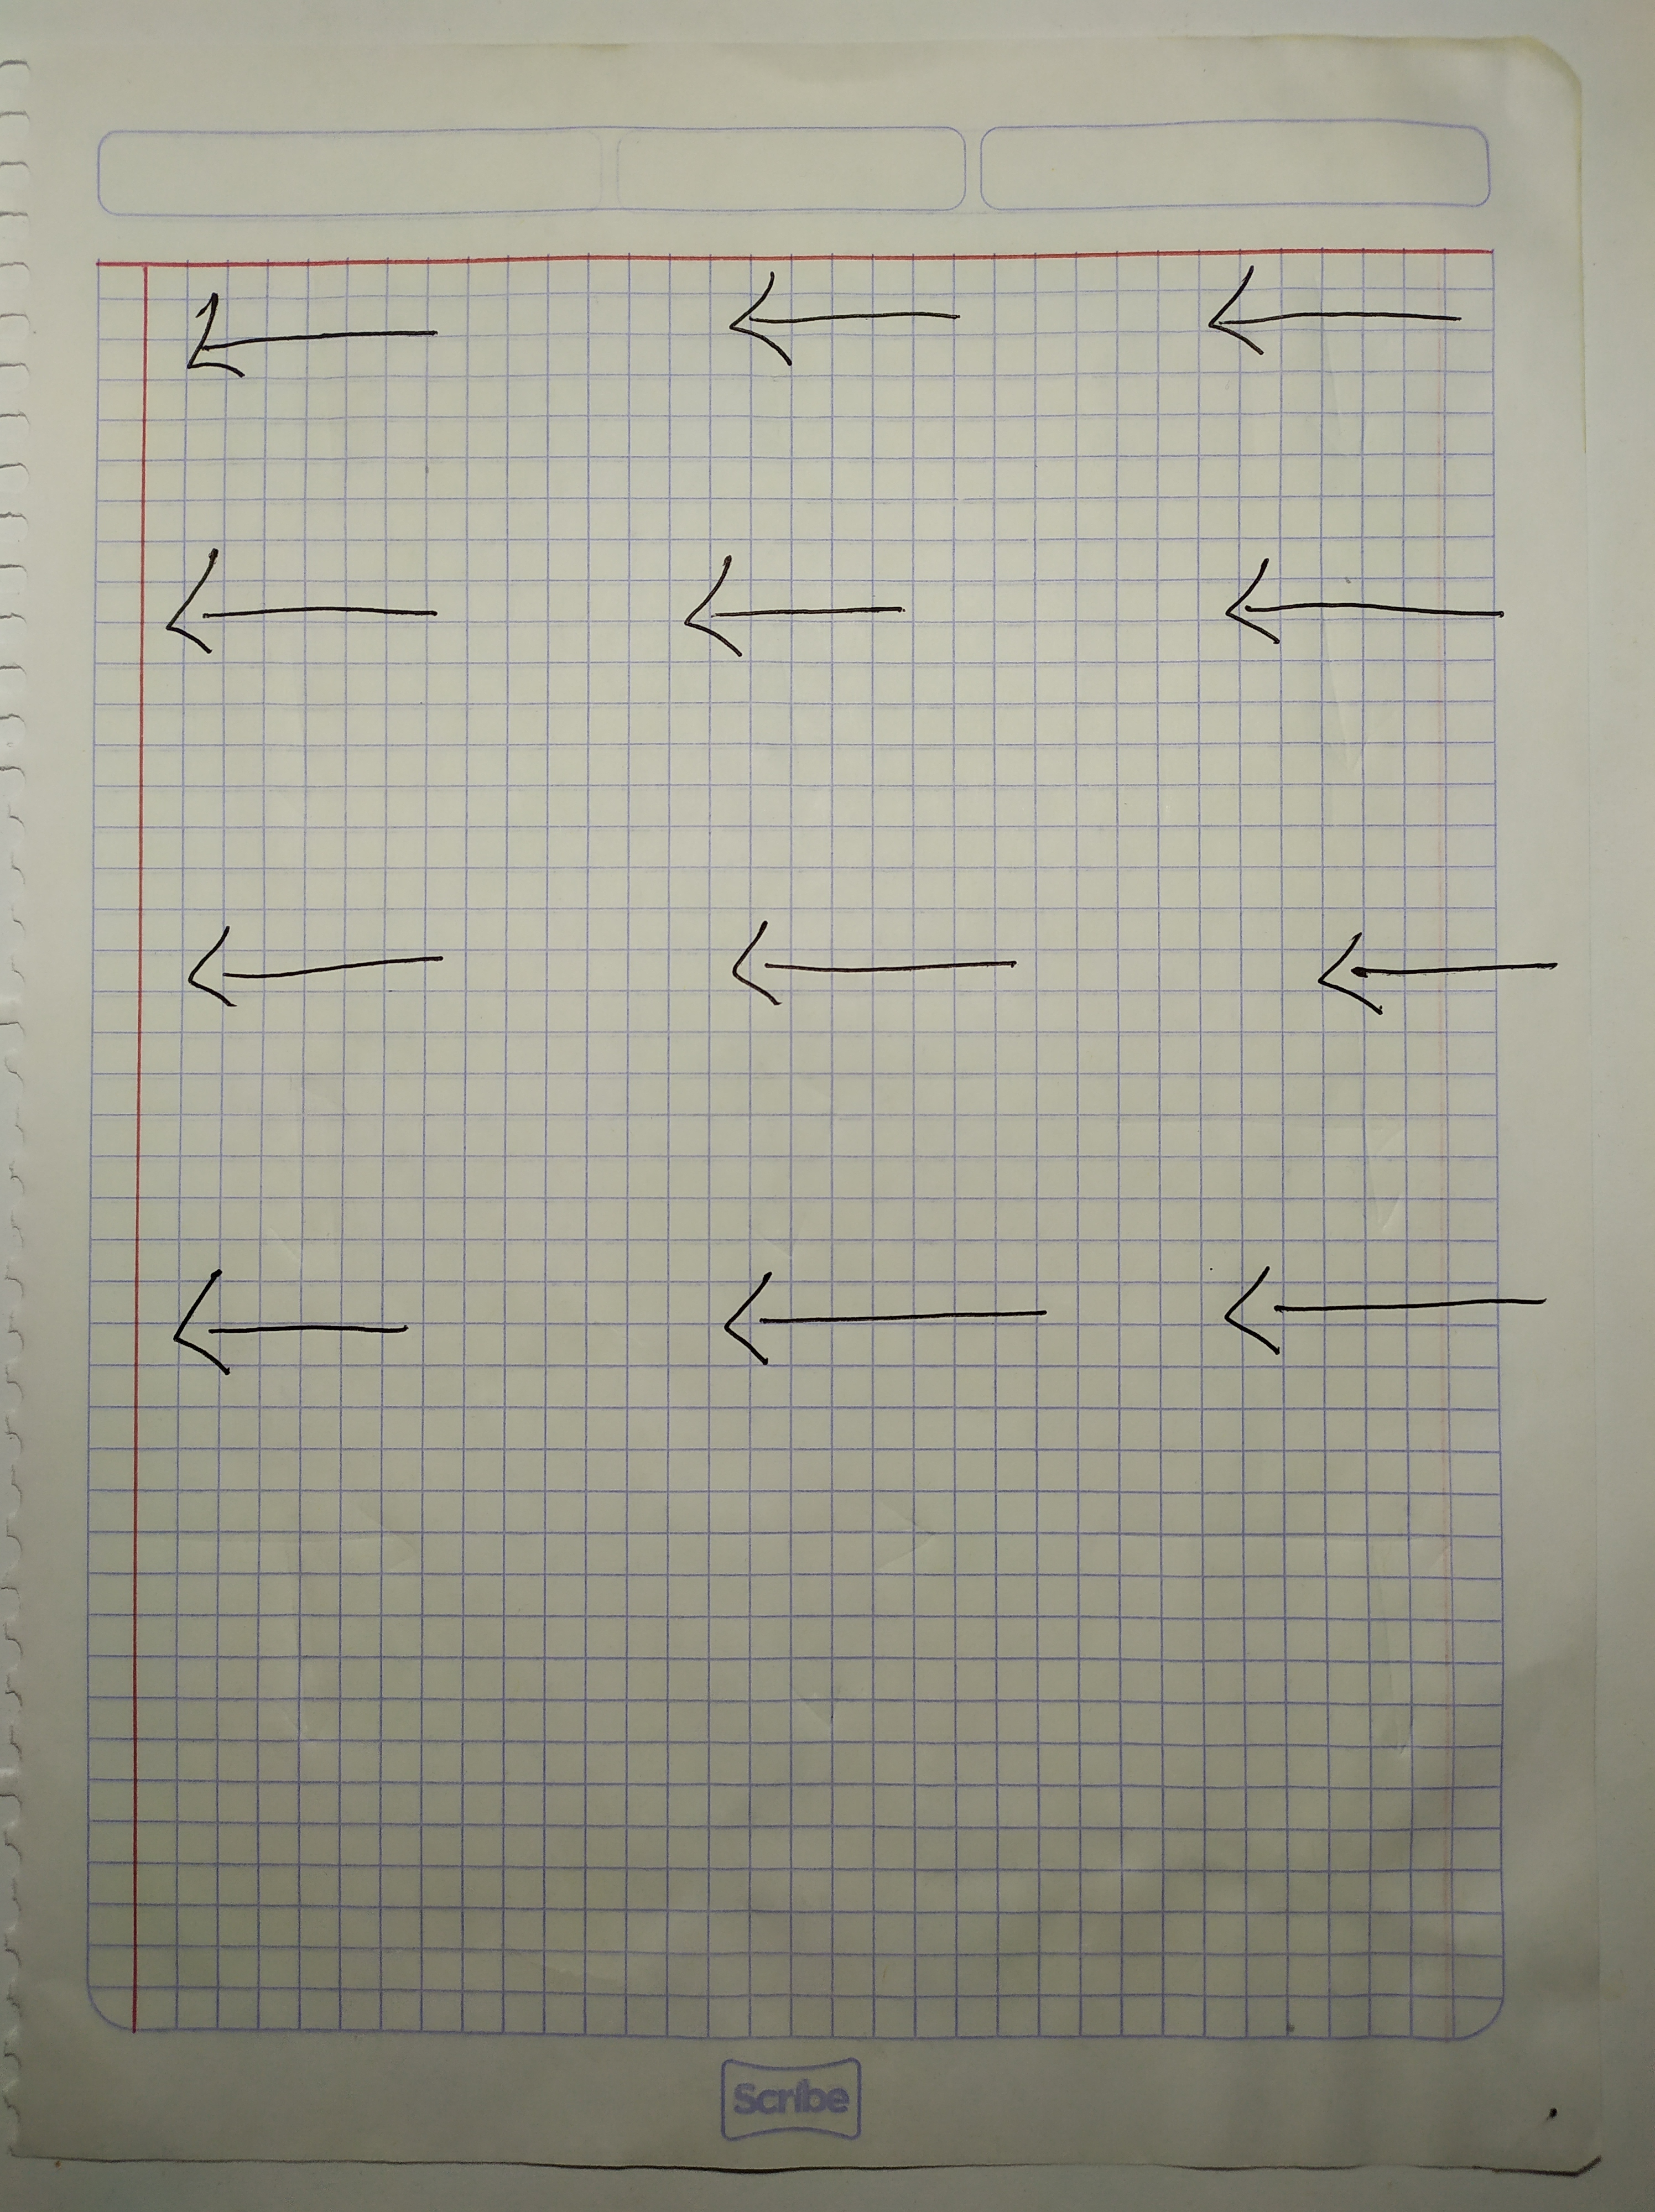arrow_line_left: (1180, 1249, 1608, 1380), (120, 530, 487, 681), (675, 1258, 1104, 1380), (1177, 551, 1558, 681), (675, 914, 1062, 1037), (143, 1260, 469, 1406), (678, 261, 1048, 389), (636, 544, 982, 681), (1156, 250, 1499, 381), (141, 278, 473, 401), (158, 917, 487, 1032), (1262, 914, 1580, 1025)
